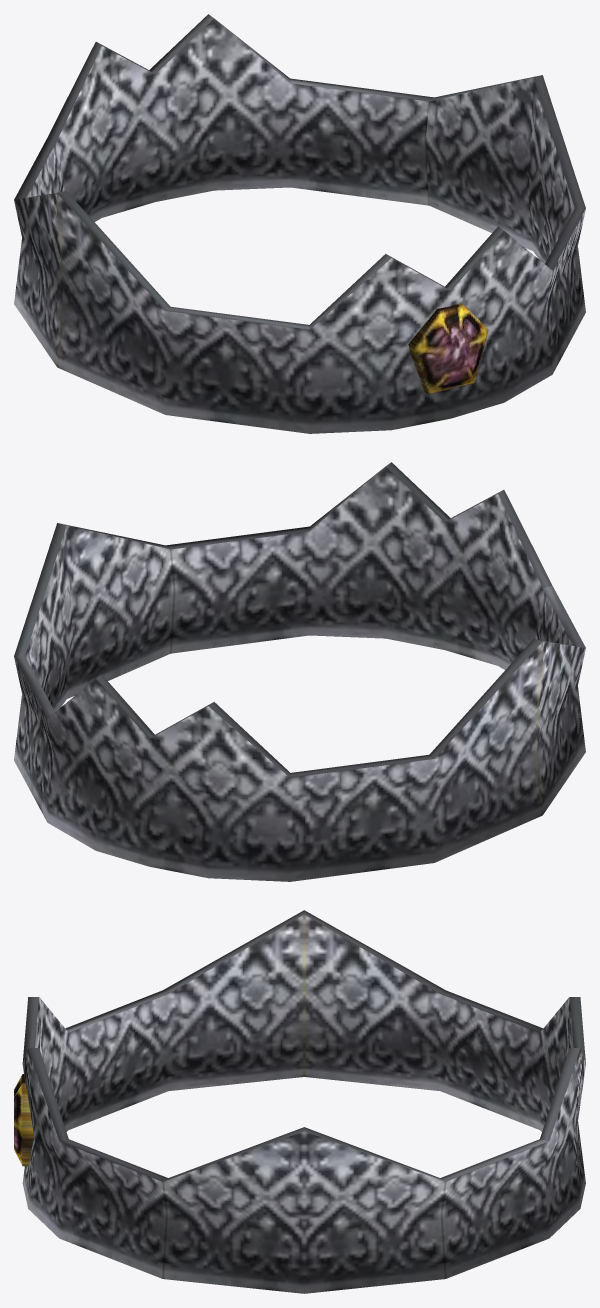
Rendered from KM_FAKEARTEFACT_ADDANOSCROWN.glb.
The picture shows the model from 3 angles, top to bottom: view 1: azimuth 30°, elevation 25°; view 2: azimuth 150°, elevation 25°; view 3: azimuth 270°, elevation 25°; orthographic projection. The views are drawn at different scales.
Visible parts, largest first — view 1: Mesh; view 2: Mesh; view 3: Mesh.
Boxes of the visible parts, left/top/right/bottom form: Mesh: left=14, top=14, right=585, bottom=433; Mesh: left=14, top=462, right=585, bottom=881; Mesh: left=14, top=910, right=585, bottom=1293.
Bounding box in the file's own units: 0.2223 × 0.0762 × 0.2429.
2 materials, 2 textured.
